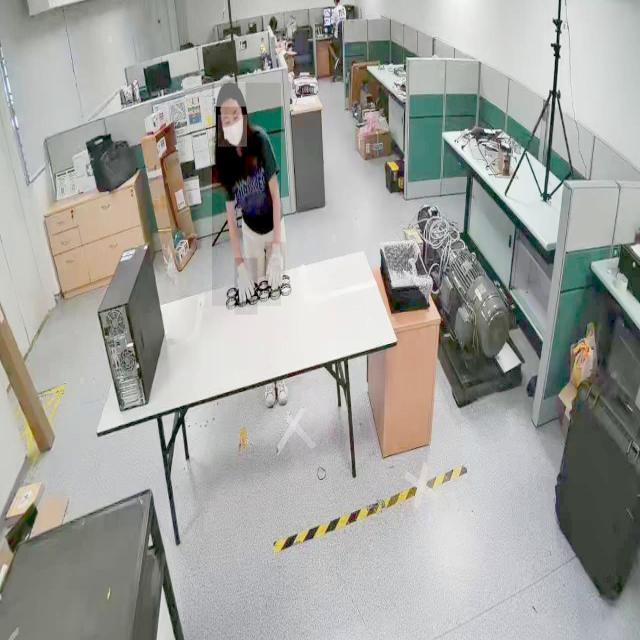face_mask: (218, 115, 247, 146)
hand_glove: (234, 258, 258, 316), (264, 242, 286, 289)
head_nohelmet: (214, 81, 246, 108)
person: (212, 82, 282, 306)
